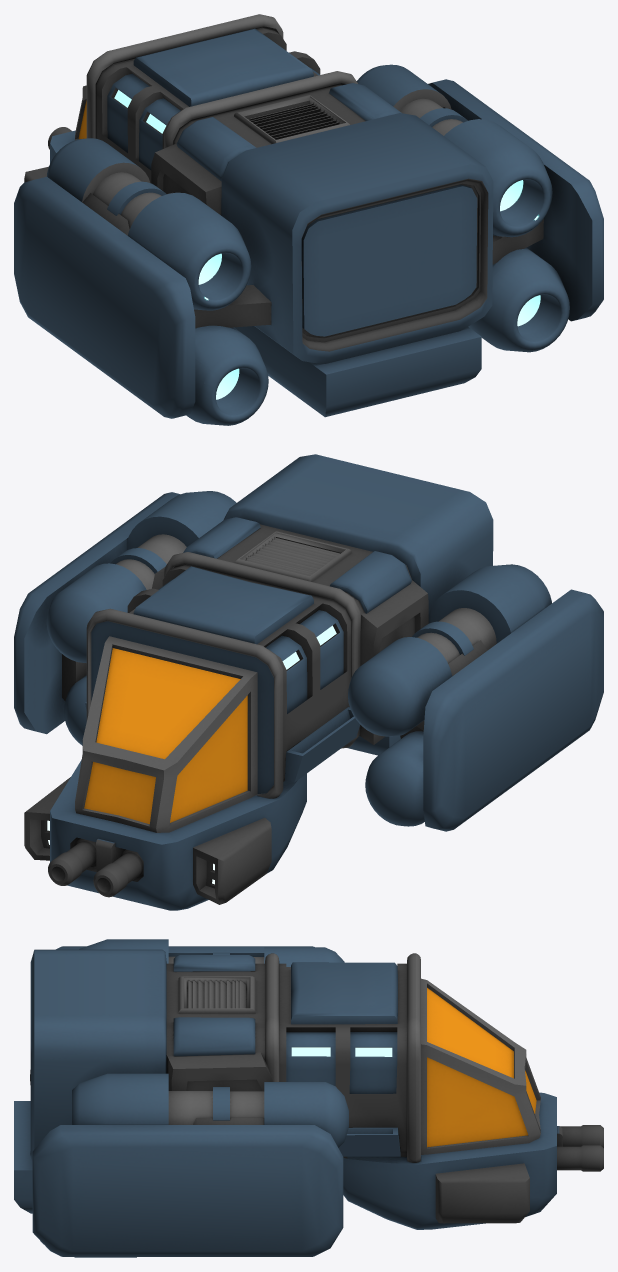
File: cargo_spaceship.glb
3 renders of one model, top to bottom at view 1: azimuth 30°, elevation 25°; view 2: azimuth 150°, elevation 25°; view 3: azimuth 270°, elevation 25°, orthographic. The views are drawn at different scales.
Visible parts, largest first — view 1: Cube.002; view 2: Cube.002; view 3: Cube.002.
Part boxes in pixels (x1,y1,x2,y2): Cube.002: (14,14,603,425); Cube.002: (14,454,603,910); Cube.002: (14,939,603,1257).
Bounding box in the file's own units: 4.46 × 2.28 × 5.7.
Materials: 5 (3 with a texture image).
